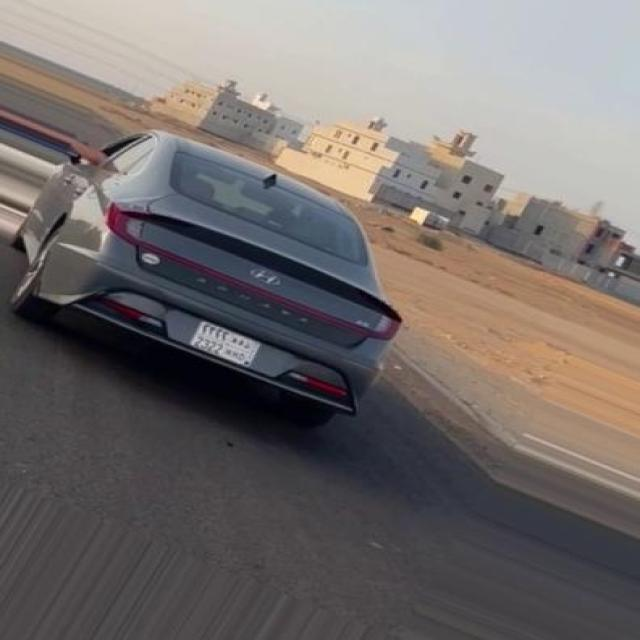Car-plate: (182, 315, 272, 379)
